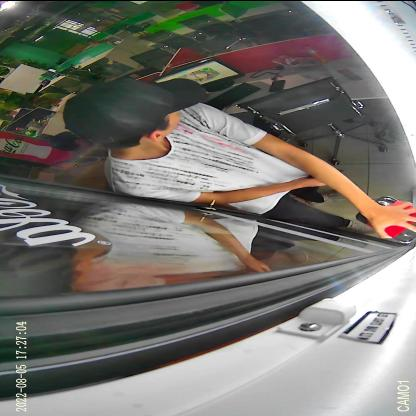red: (355, 194, 416, 242)
